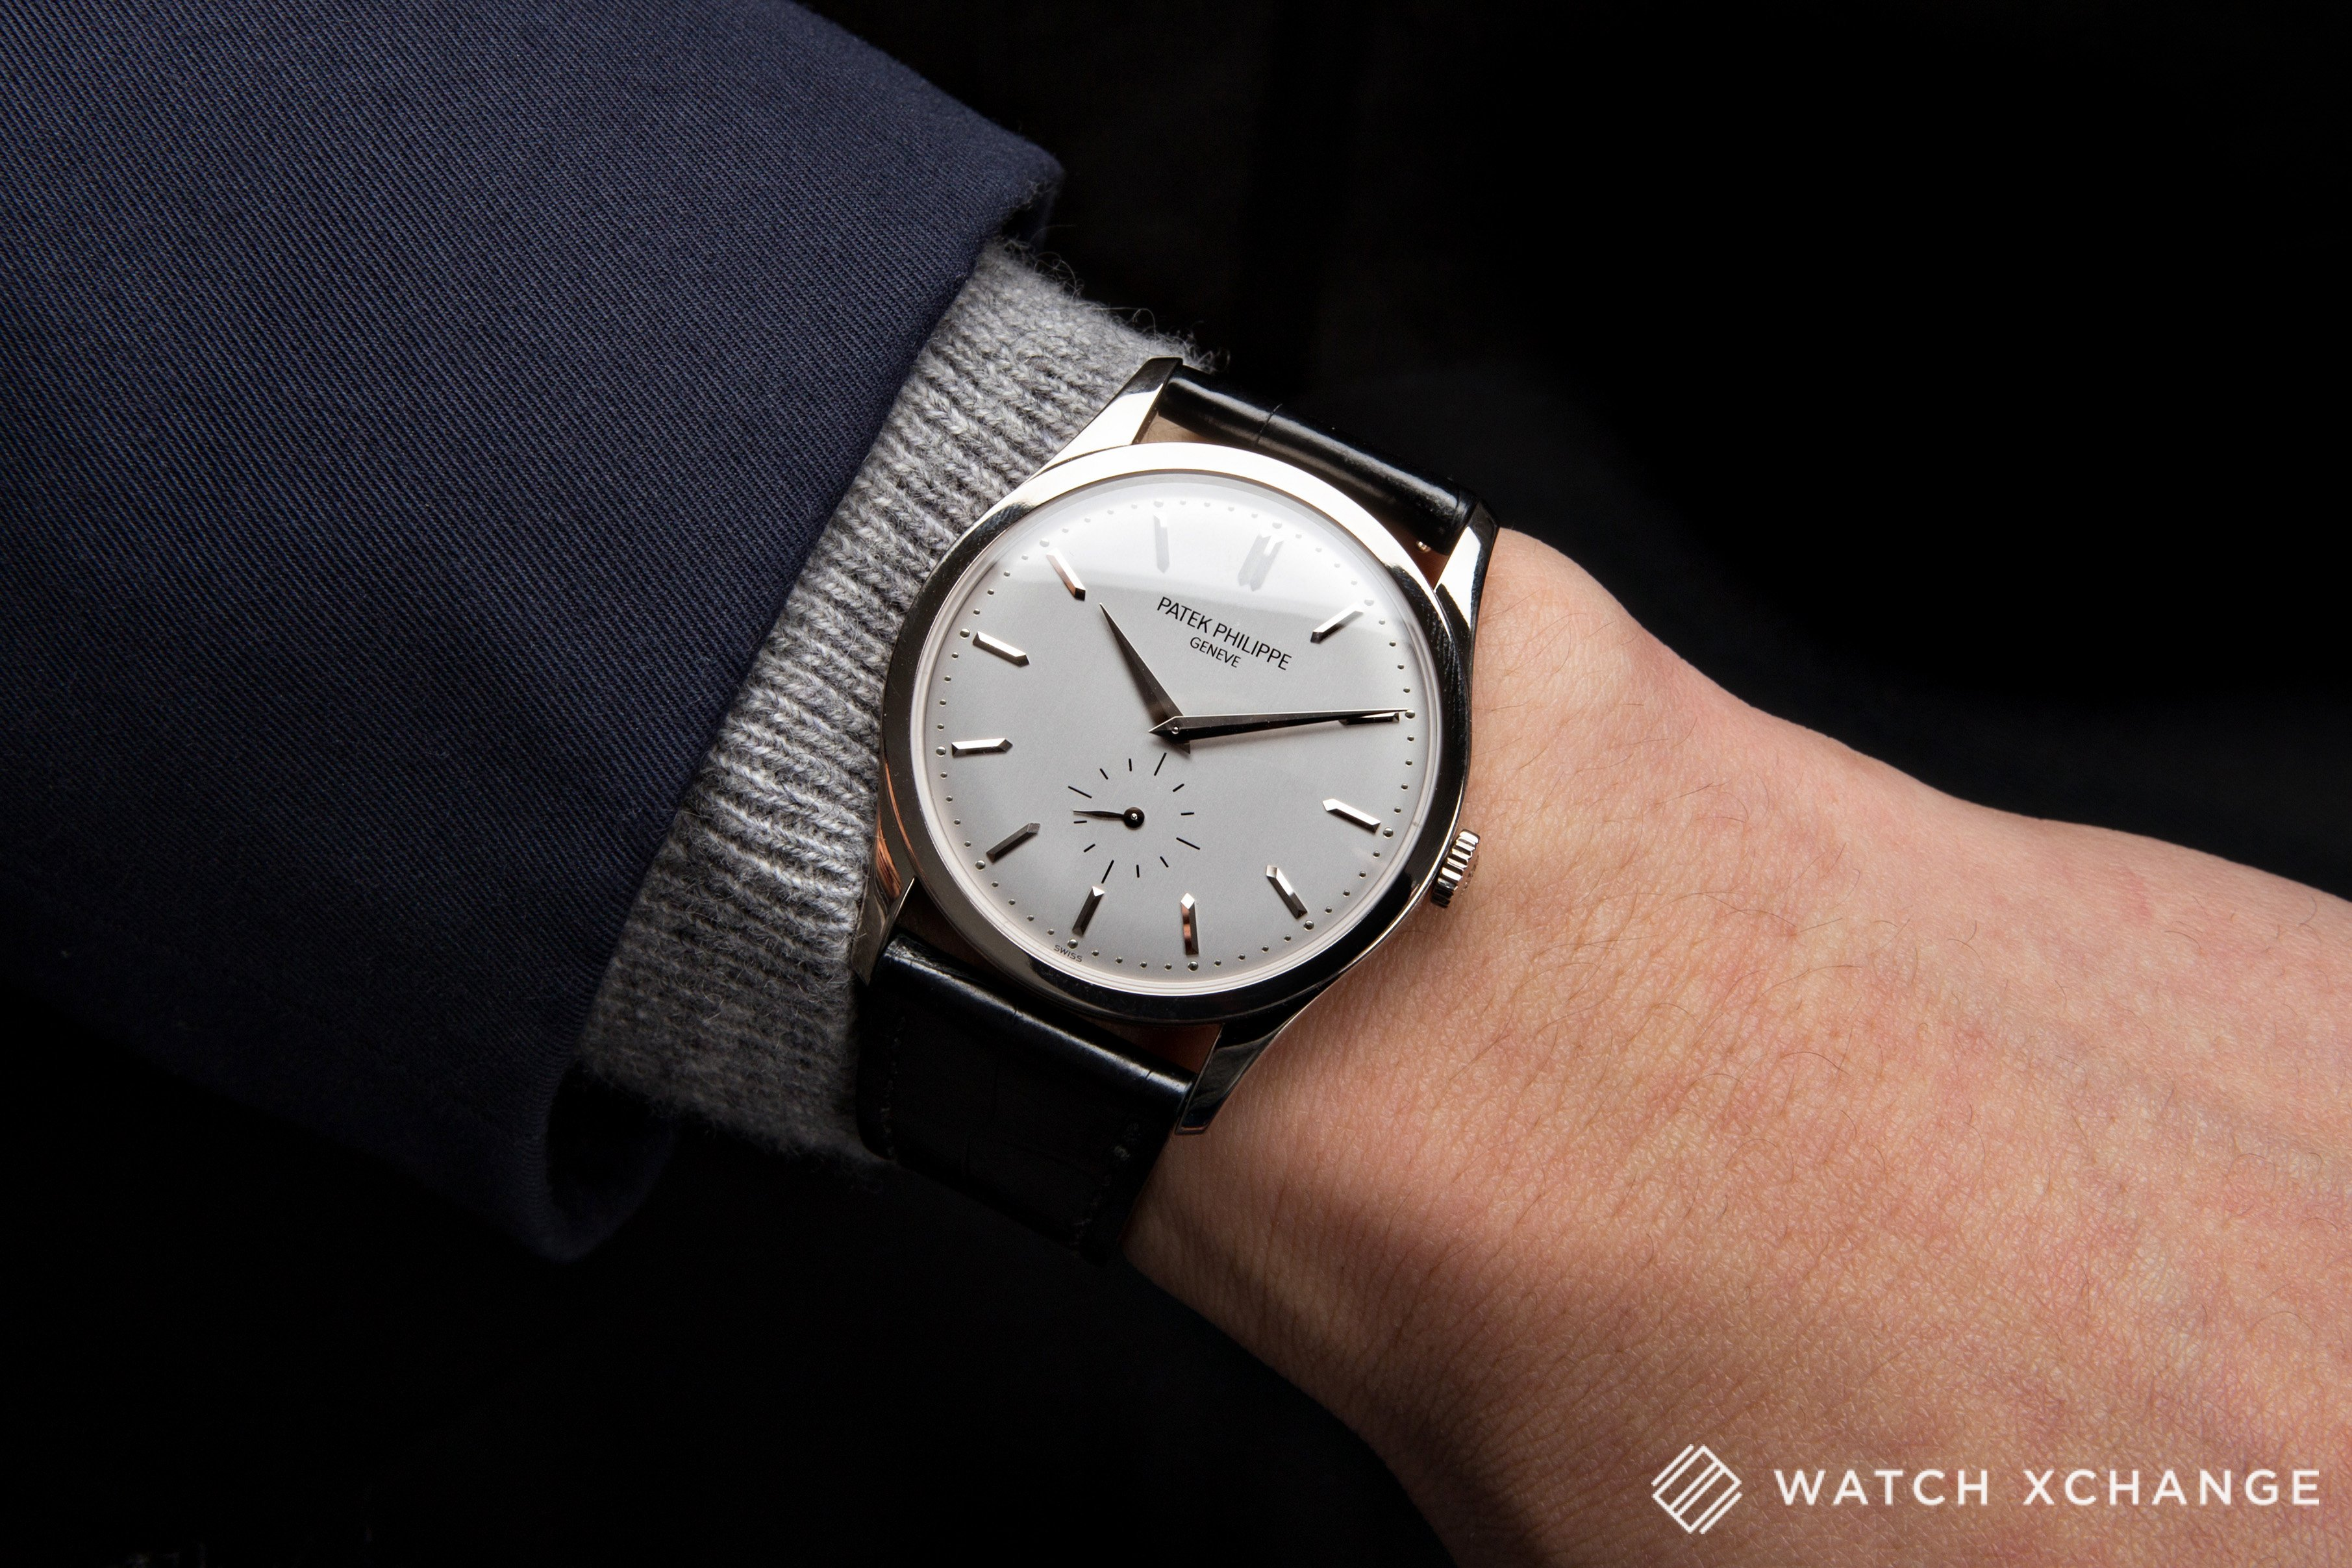clock: (912, 467, 1435, 1006)
